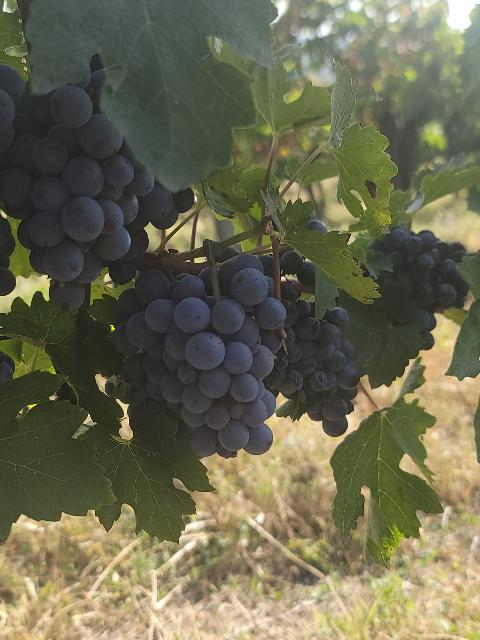grapes: (0, 64, 191, 314), (112, 254, 286, 458), (262, 282, 359, 435), (366, 226, 469, 349)
